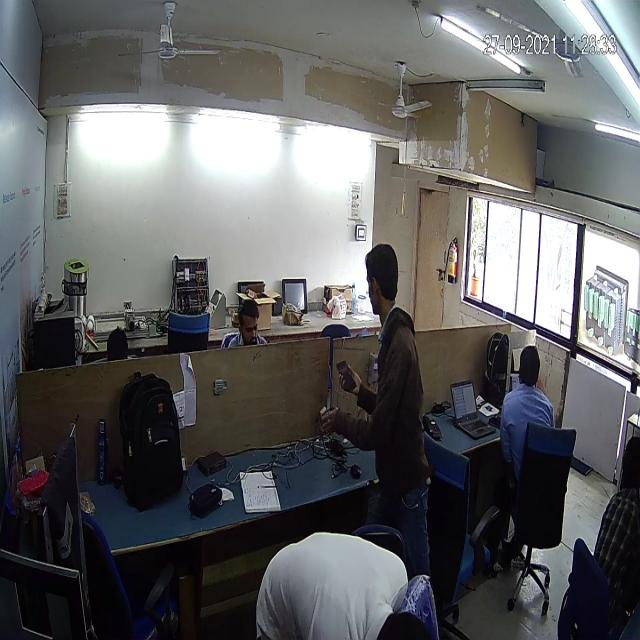adult: (310, 230, 446, 593)
